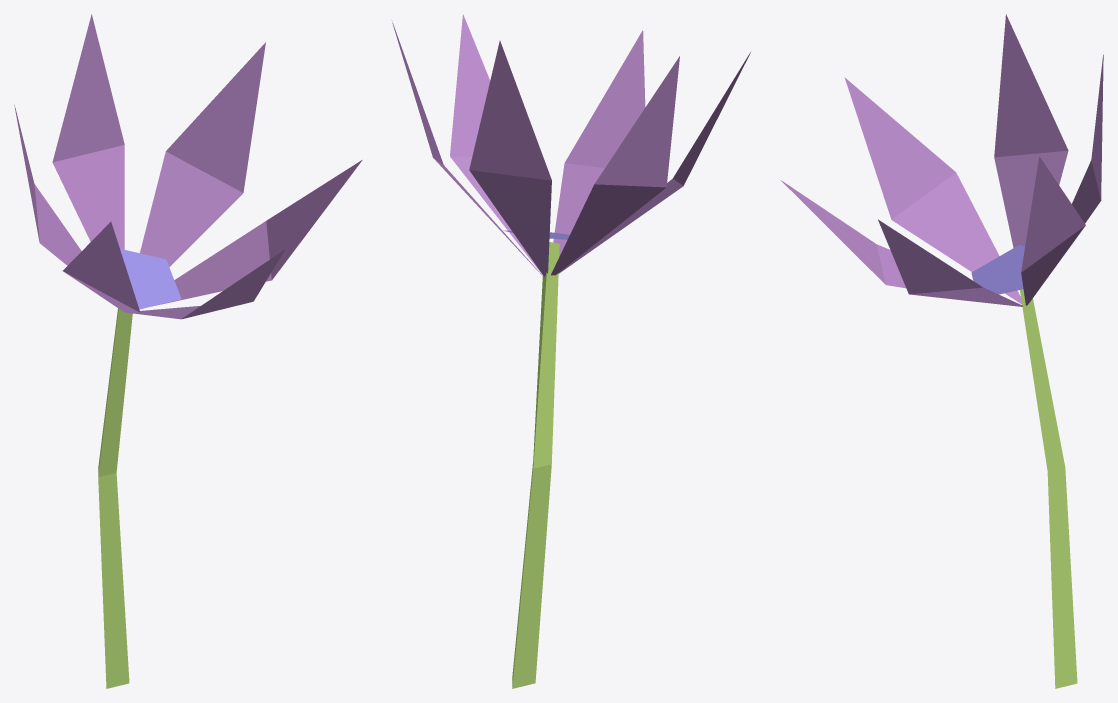
The model's file is Flower_b_TwoS_01.fbx.
3 renders of one model, left to right at view 1: azimuth 30°, elevation 25°; view 2: azimuth 150°, elevation 25°; view 3: azimuth 270°, elevation 25°, orthographic. The views are drawn at different scales.
Visible parts, largest first — view 1: Flower_b_TwoS_01; view 2: Flower_b_TwoS_01; view 3: Flower_b_TwoS_01.
Part boxes in pixels (<box>): Flower_b_TwoS_01: <box>14,14,362,688</box>; Flower_b_TwoS_01: <box>392,14,750,688</box>; Flower_b_TwoS_01: <box>780,14,1103,688</box>.
Size of the model in its own units: 19.08 by 42.26 by 19.67.
